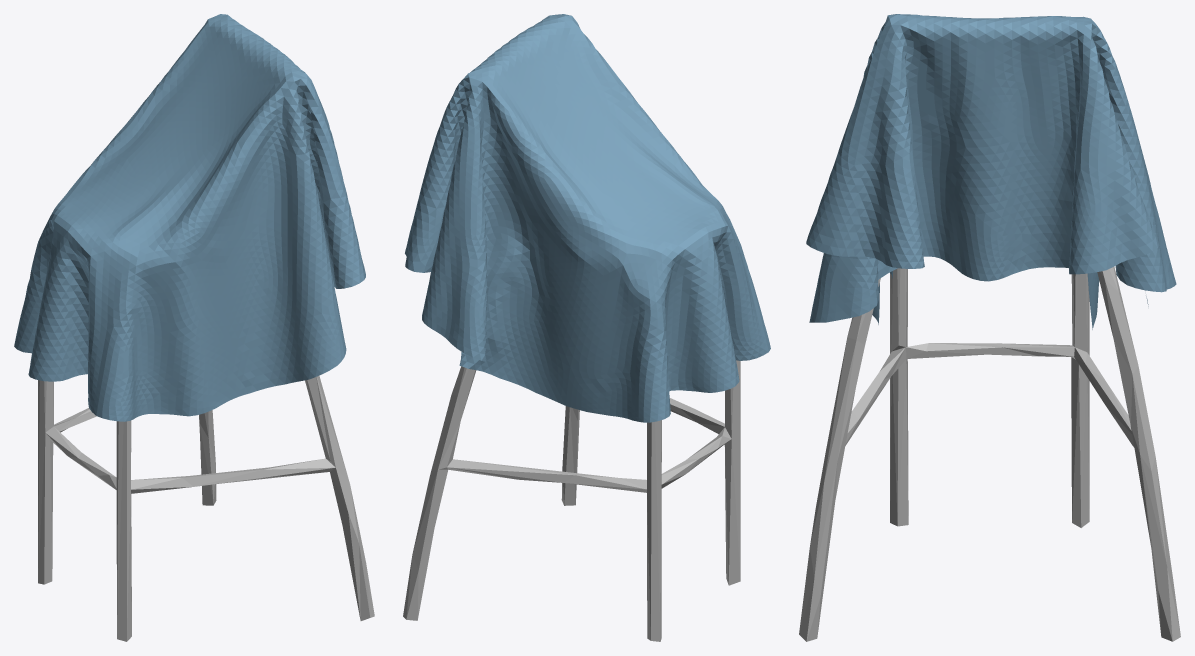
File: level_2.glb
3 renders of one model, left to right at view 1: azimuth 30°, elevation 25°; view 2: azimuth 150°, elevation 25°; view 3: azimuth 270°, elevation 25°, orthographic. The views are drawn at different scales.
Visible parts, largest first — view 1: world, object.obj; view 2: world, object.obj; view 3: world, object.obj.
Boxes of the visible parts, x1,y1,x2,y2 form: world: (14, 14, 365, 421); object.obj: (38, 376, 374, 641); world: (405, 14, 770, 422); object.obj: (403, 360, 740, 641); world: (806, 14, 1176, 329); object.obj: (799, 267, 1180, 641).
Bounding box in the file's own units: 0.2453 × 0.4248 × 0.2427.
